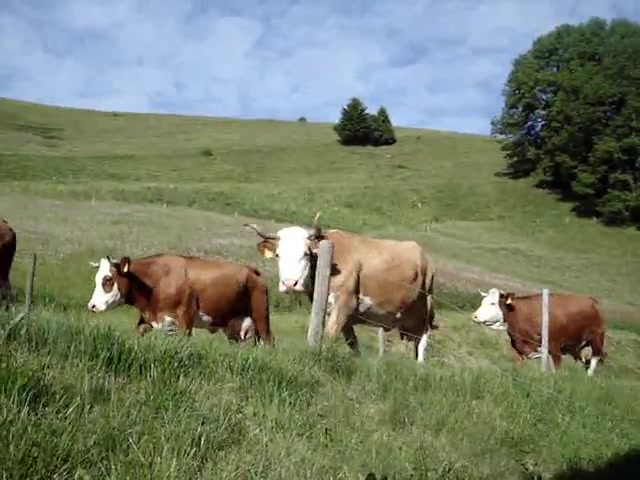cow: (86, 253, 273, 350)
